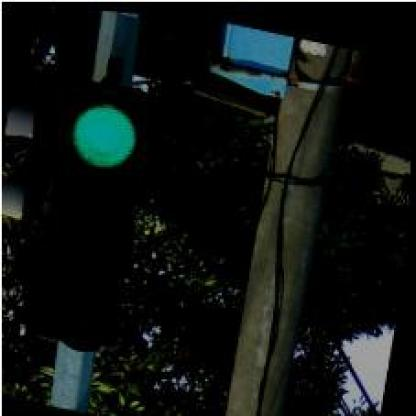green: (29, 74, 152, 356)
